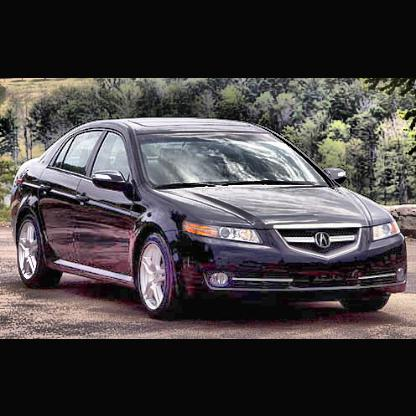Acura TL Type-S 2008: (12, 117, 410, 325)
